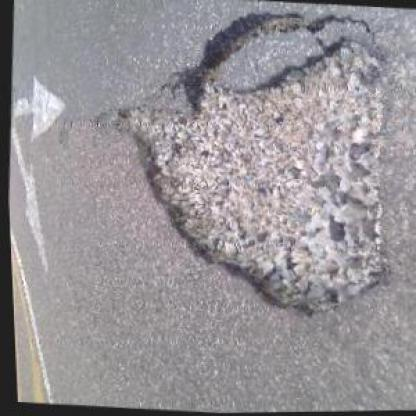pothole: (83, 0, 406, 329)
